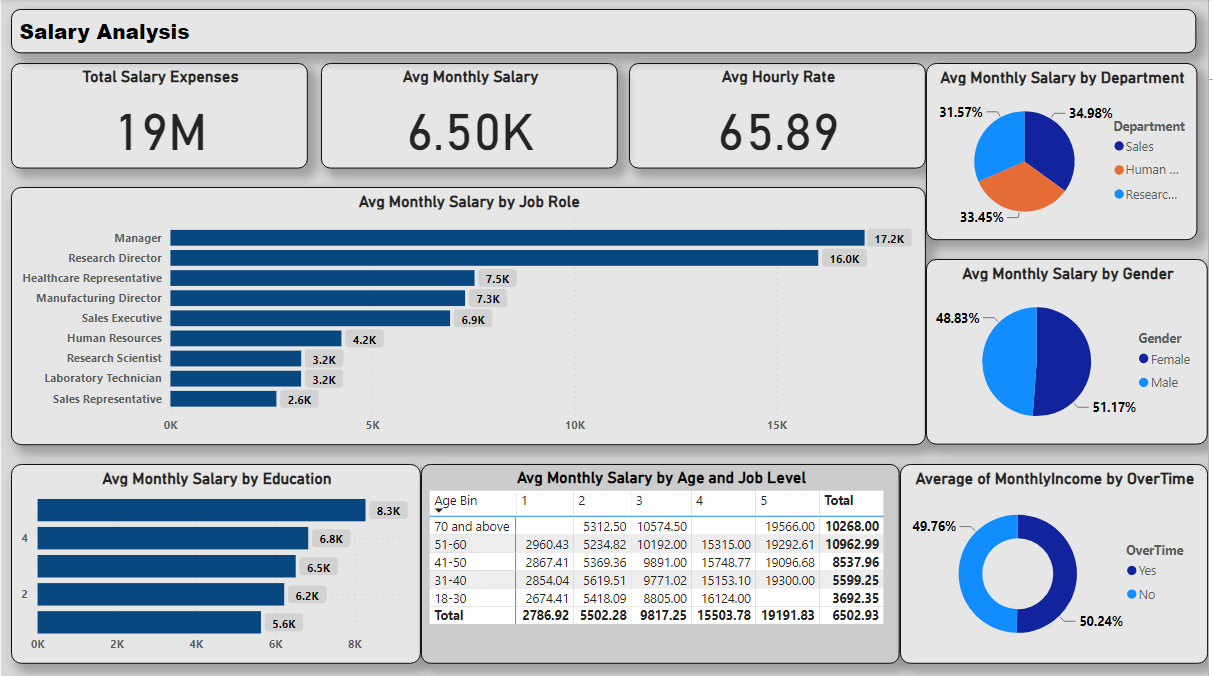

What the dashboard file says about the page in this screenshot:
{"tool":"powerbi","page":{"name":"Salary Analysis","canvas":[1280,720],"ordinal":2},"visuals":[{"type":"card","title":"Total Salary Expenses","fields":{"Values":["Sum(Attrition.MonthlyIncome)"]},"box":[9.6,68,315.5,111.5],"z":0},{"type":"card","title":"Avg Hourly Rate","fields":{"Values":["Avg(Attrition.HourlyRate)"]},"box":[665,68,315.5,111.5],"z":1000},{"type":"card","title":"Avg Monthly Salary","fields":{"Values":["Avg(Attrition.MonthlyIncome)"]},"box":[338.9,68,315.5,111.5],"z":2000},{"type":"clusteredBarChart","title":"Avg  Monthly Salary by Job Role","fields":{"Category":["Attrition.JobRole"],"Y":["Avg(Attrition.MonthlyIncome)"]},"box":[9.6,199.7,970.9,274.1],"z":3000},{"type":"clusteredBarChart","title":"Avg  Monthly Salary by Education","fields":{"Y":["Avg(Attrition.MonthlyIncome)"],"Category":["Attrition.Education"]},"box":[9.6,493.5,435.2,212.3],"z":4000},{"type":"pivotTable","title":"Avg Monthly Salary by Age and Job Level","fields":{"Values":["Avg(Attrition.MonthlyIncome)"],"Rows":["HR_Employee_Attrition_Data.Age Bin"],"Columns":["Attrition.JobLevel"]},"box":[444.7,493.5,508.4,212.3],"z":5000},{"type":"textbox","box":[9.6,10.6,1257.7,46.7],"z":6000},{"type":"donutChart","fields":{"Category":["Attrition.OverTime"],"Y":["Avg(Attrition.MonthlyIncome)"]},"box":[953.1,493.5,326.9,212.3],"z":7000},{"type":"pieChart","title":"Avg Monthly Salary by Department","fields":{"Y":["Avg(Attrition.MonthlyIncome)"],"Category":["Attrition.Department"]},"box":[980.7,67.9,287.6,187.9],"z":8000},{"type":"pieChart","title":"Avg Monthly Salary by Gender","fields":{"Y":["Avg(Attrition.MonthlyIncome)"],"Category":["Attrition.Gender"]},"box":[980.7,276,299.3,197.4],"z":9000}]}

Visuals, with their boxes in screenshot pixels (x1, y1, x2, y2), scaled from the page's 1280x720 canvas onto the 1213x676 screenshot:
"Total Salary Expenses" card: region(9, 64, 308, 169)
"Avg Hourly Rate" card: region(630, 64, 929, 169)
"Avg Monthly Salary" card: region(321, 64, 620, 169)
"Avg  Monthly Salary by Job Role" clusteredBarChart: region(9, 187, 929, 445)
"Avg  Monthly Salary by Education" clusteredBarChart: region(9, 463, 422, 663)
"Avg Monthly Salary by Age and Job Level" pivotTable: region(421, 463, 903, 663)
textbox: region(9, 10, 1201, 54)
donutChart - Attrition.OverTime x Avg(Attrition.MonthlyIncome): region(903, 463, 1212, 663)
"Avg Monthly Salary by Department" pieChart: region(929, 64, 1202, 240)
"Avg Monthly Salary by Gender" pieChart: region(929, 259, 1212, 444)
